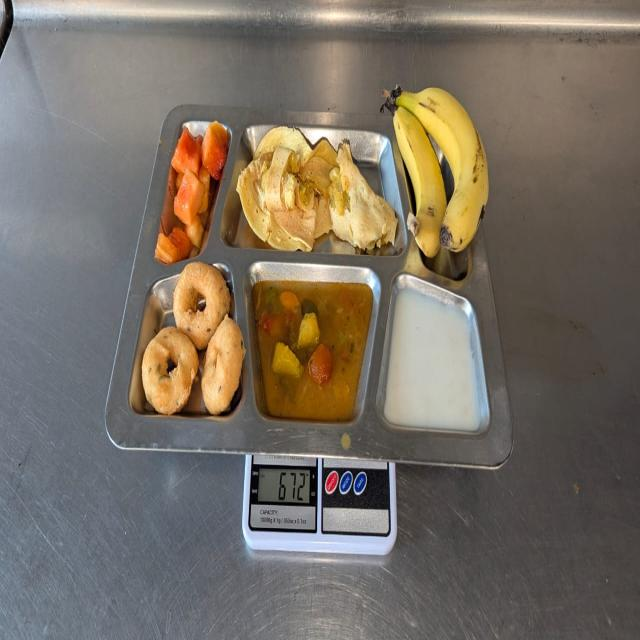Banana: (394, 85, 490, 261)
Besan Chilla: (235, 125, 399, 258)
Papaya: (154, 119, 230, 262)
Porridge: (382, 277, 490, 440)
Sambhar: (252, 279, 376, 425)
Vada: (140, 264, 247, 429)
